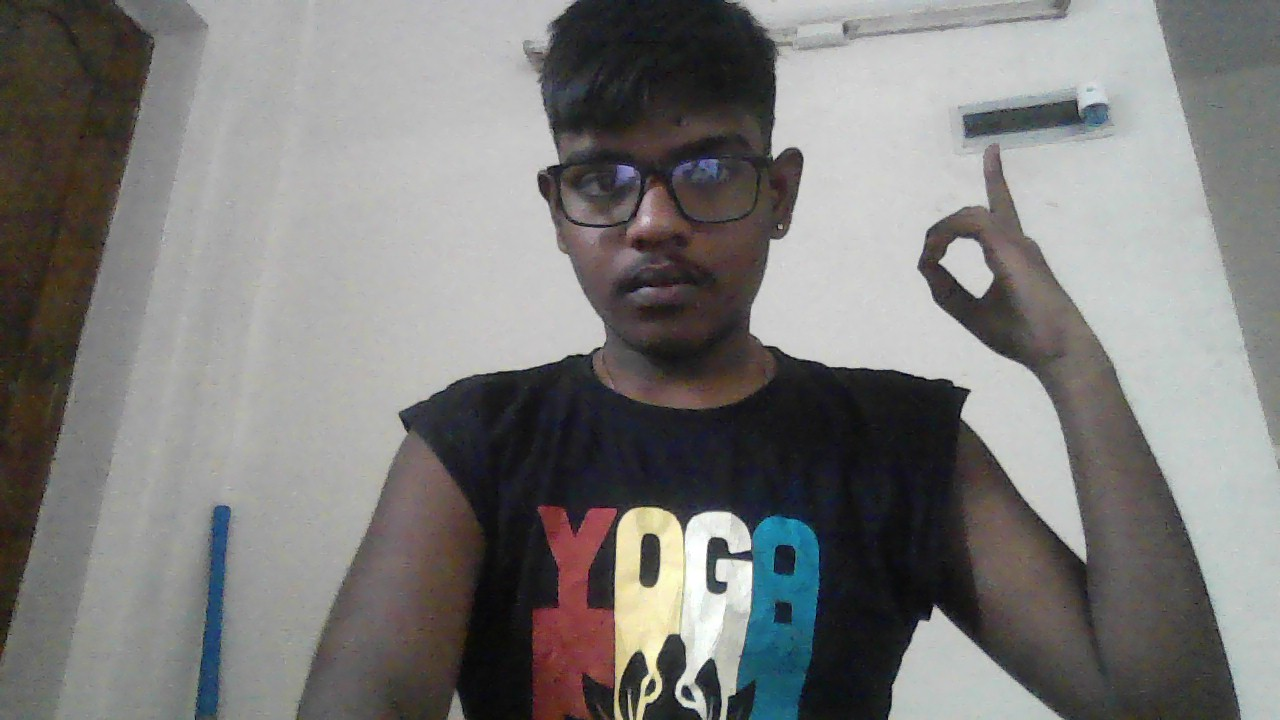D: (919, 144, 1073, 369)
